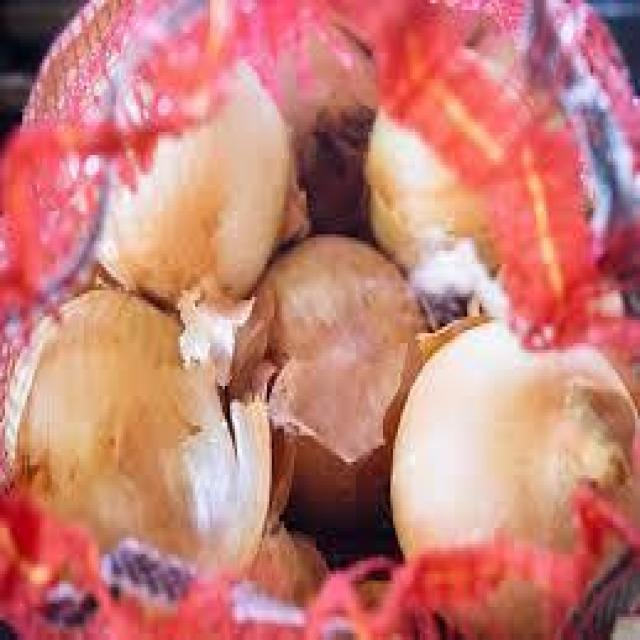Onion: (14, 272, 302, 579), (388, 317, 640, 633), (230, 236, 435, 526), (96, 63, 312, 310), (364, 41, 574, 279), (266, 20, 382, 221)
